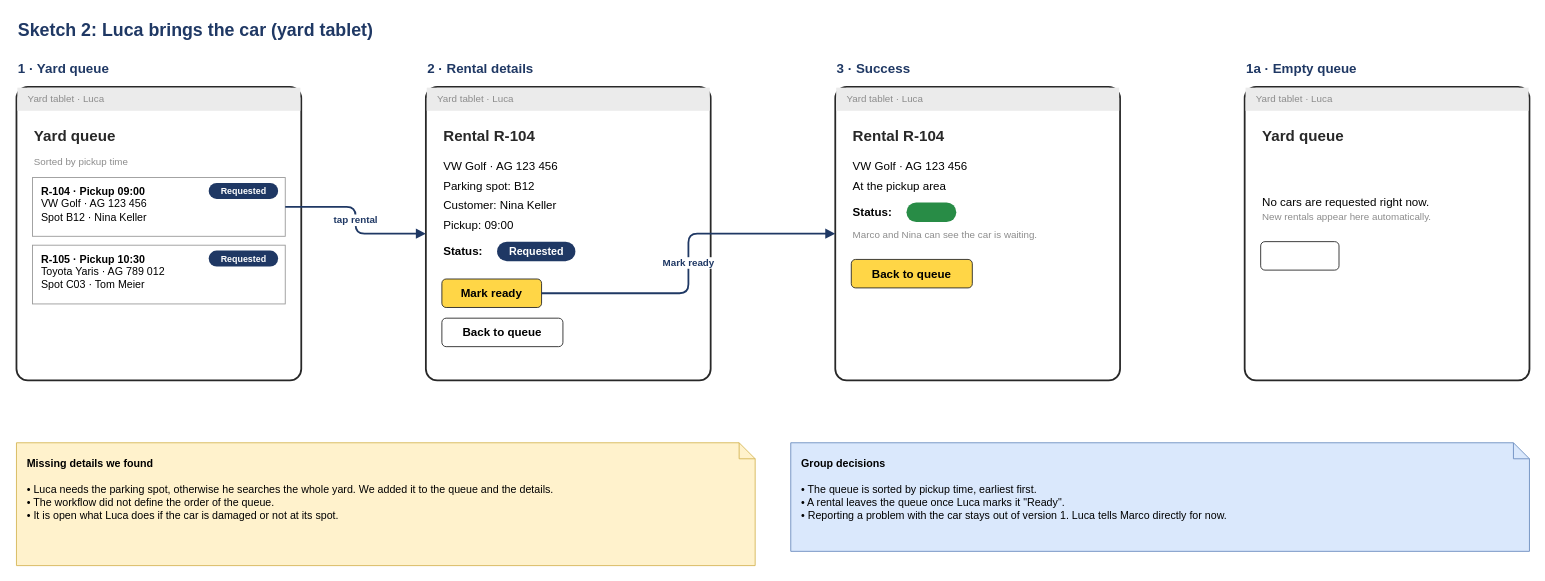
Some shapes in this 1545 by 581 pixel diagram are drawn without their labels. The shapes that lost their labels are listed below. From the top down, each one's centre as x and y in pixels, then its label:
At pixel 931 212: "Ready".
At pixel 1299 255: "Refresh".
